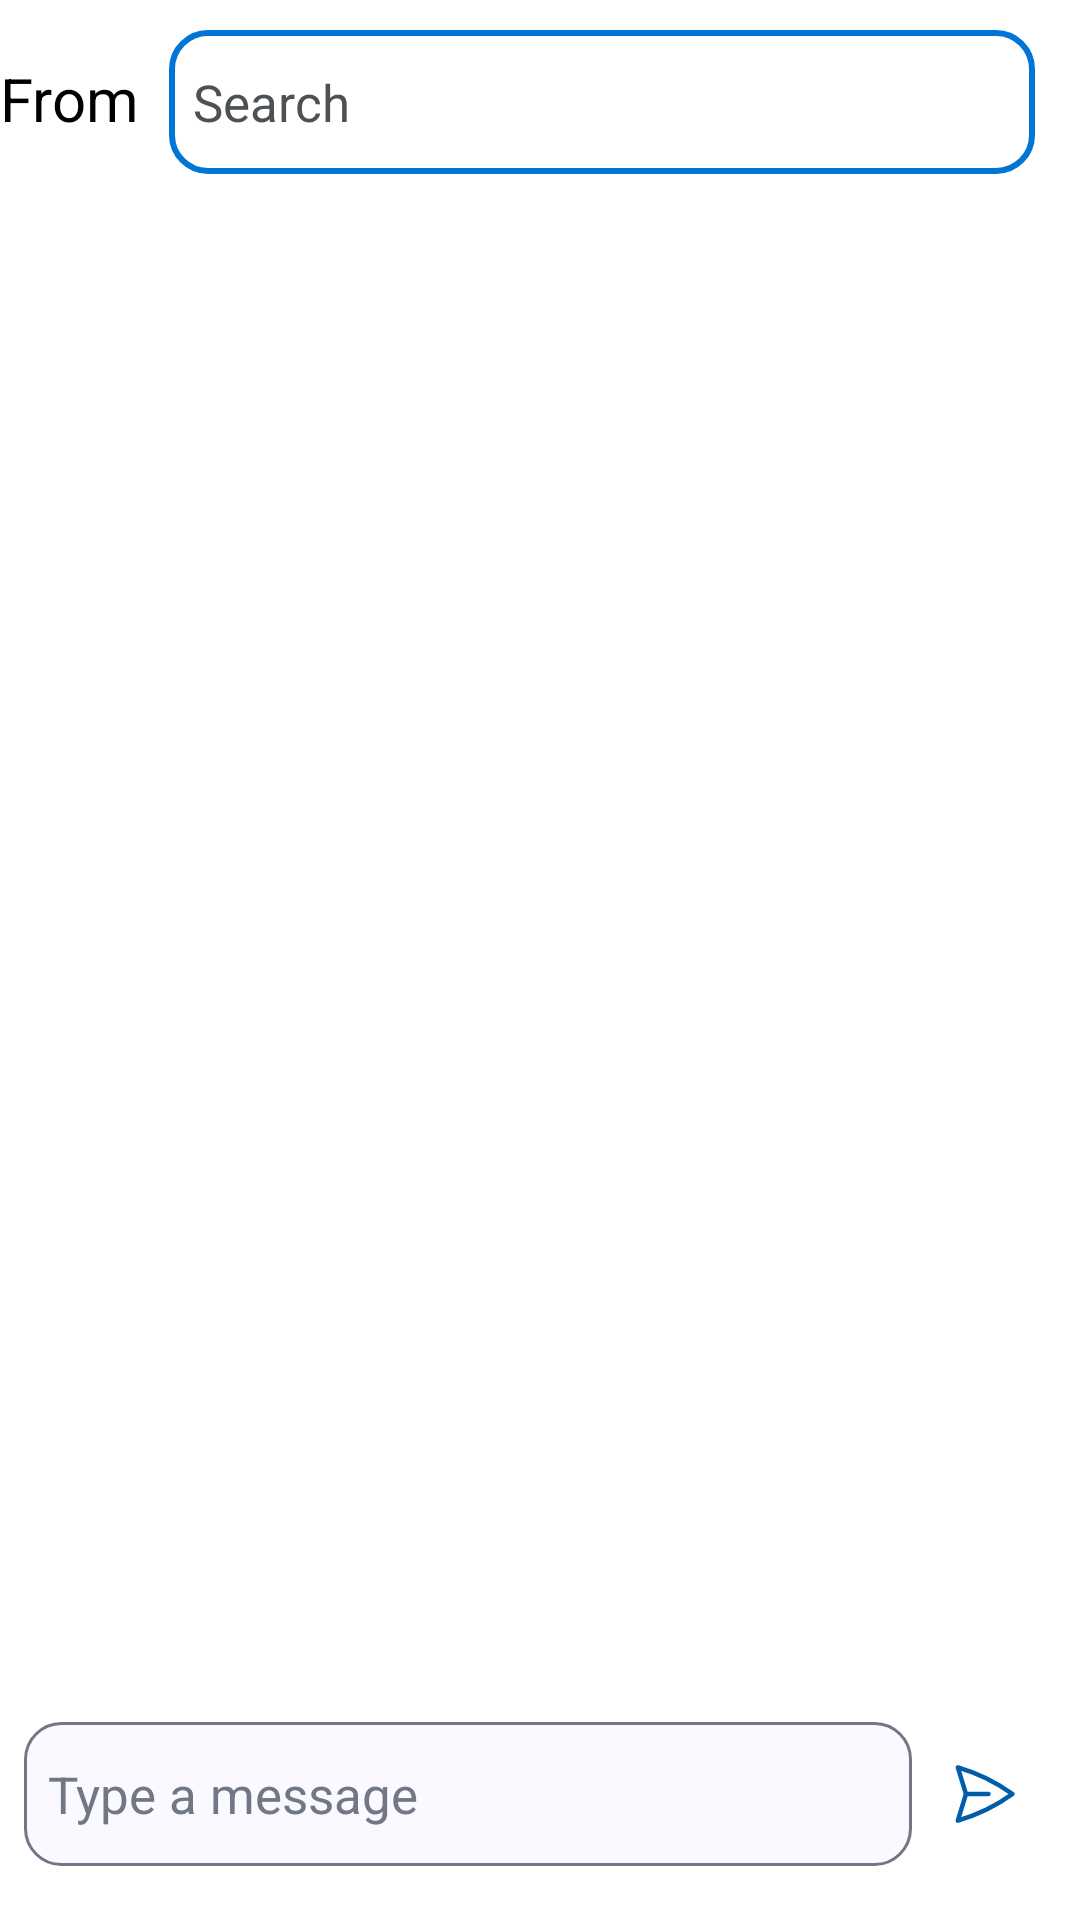

Where to tap for icons on this 1080 x 1920 app screen, as point (x, y):
Send message: point (985, 1794)
